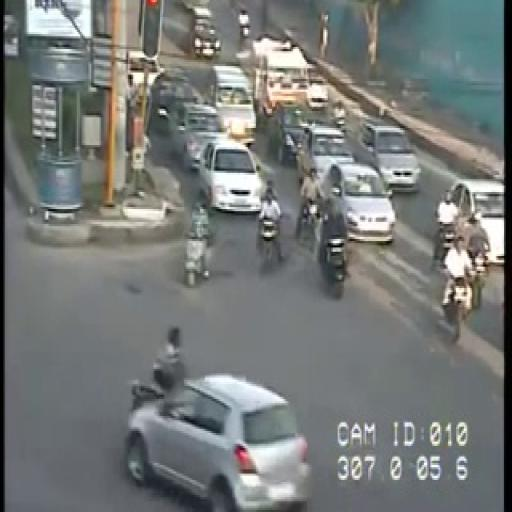Car: (135, 374, 313, 512), (315, 163, 396, 246), (197, 138, 263, 212), (452, 176, 504, 267), (356, 121, 419, 194), (250, 36, 313, 108), (206, 64, 256, 146), (151, 72, 207, 135), (293, 120, 351, 178), (172, 104, 222, 167), (272, 105, 313, 165), (184, 4, 221, 59)
Major Accident: (117, 326, 315, 512)
Motor: (122, 334, 220, 412), (437, 240, 472, 338), (463, 215, 496, 312), (183, 205, 215, 285), (318, 220, 348, 296), (296, 169, 322, 242), (434, 193, 459, 268), (258, 209, 284, 268), (233, 5, 253, 45), (332, 100, 346, 129)
